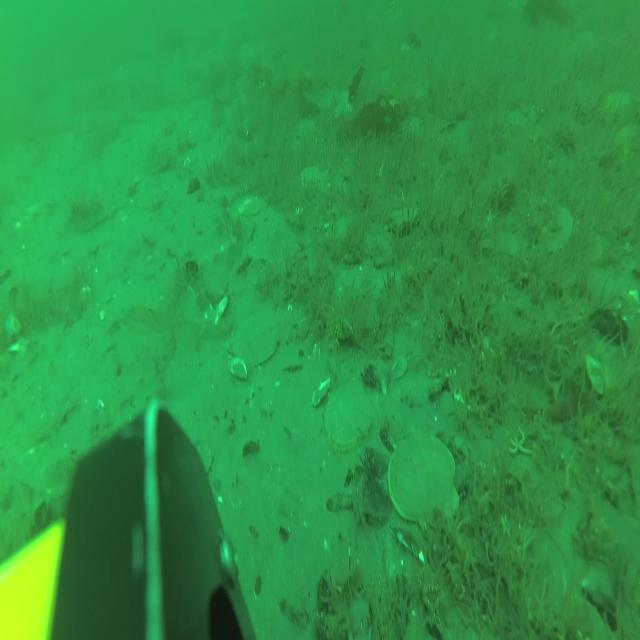scallop: (389, 437, 460, 530), (325, 383, 372, 449), (232, 308, 280, 366), (529, 205, 573, 257), (136, 184, 166, 212), (300, 164, 326, 192), (246, 197, 266, 216), (236, 193, 250, 211)
